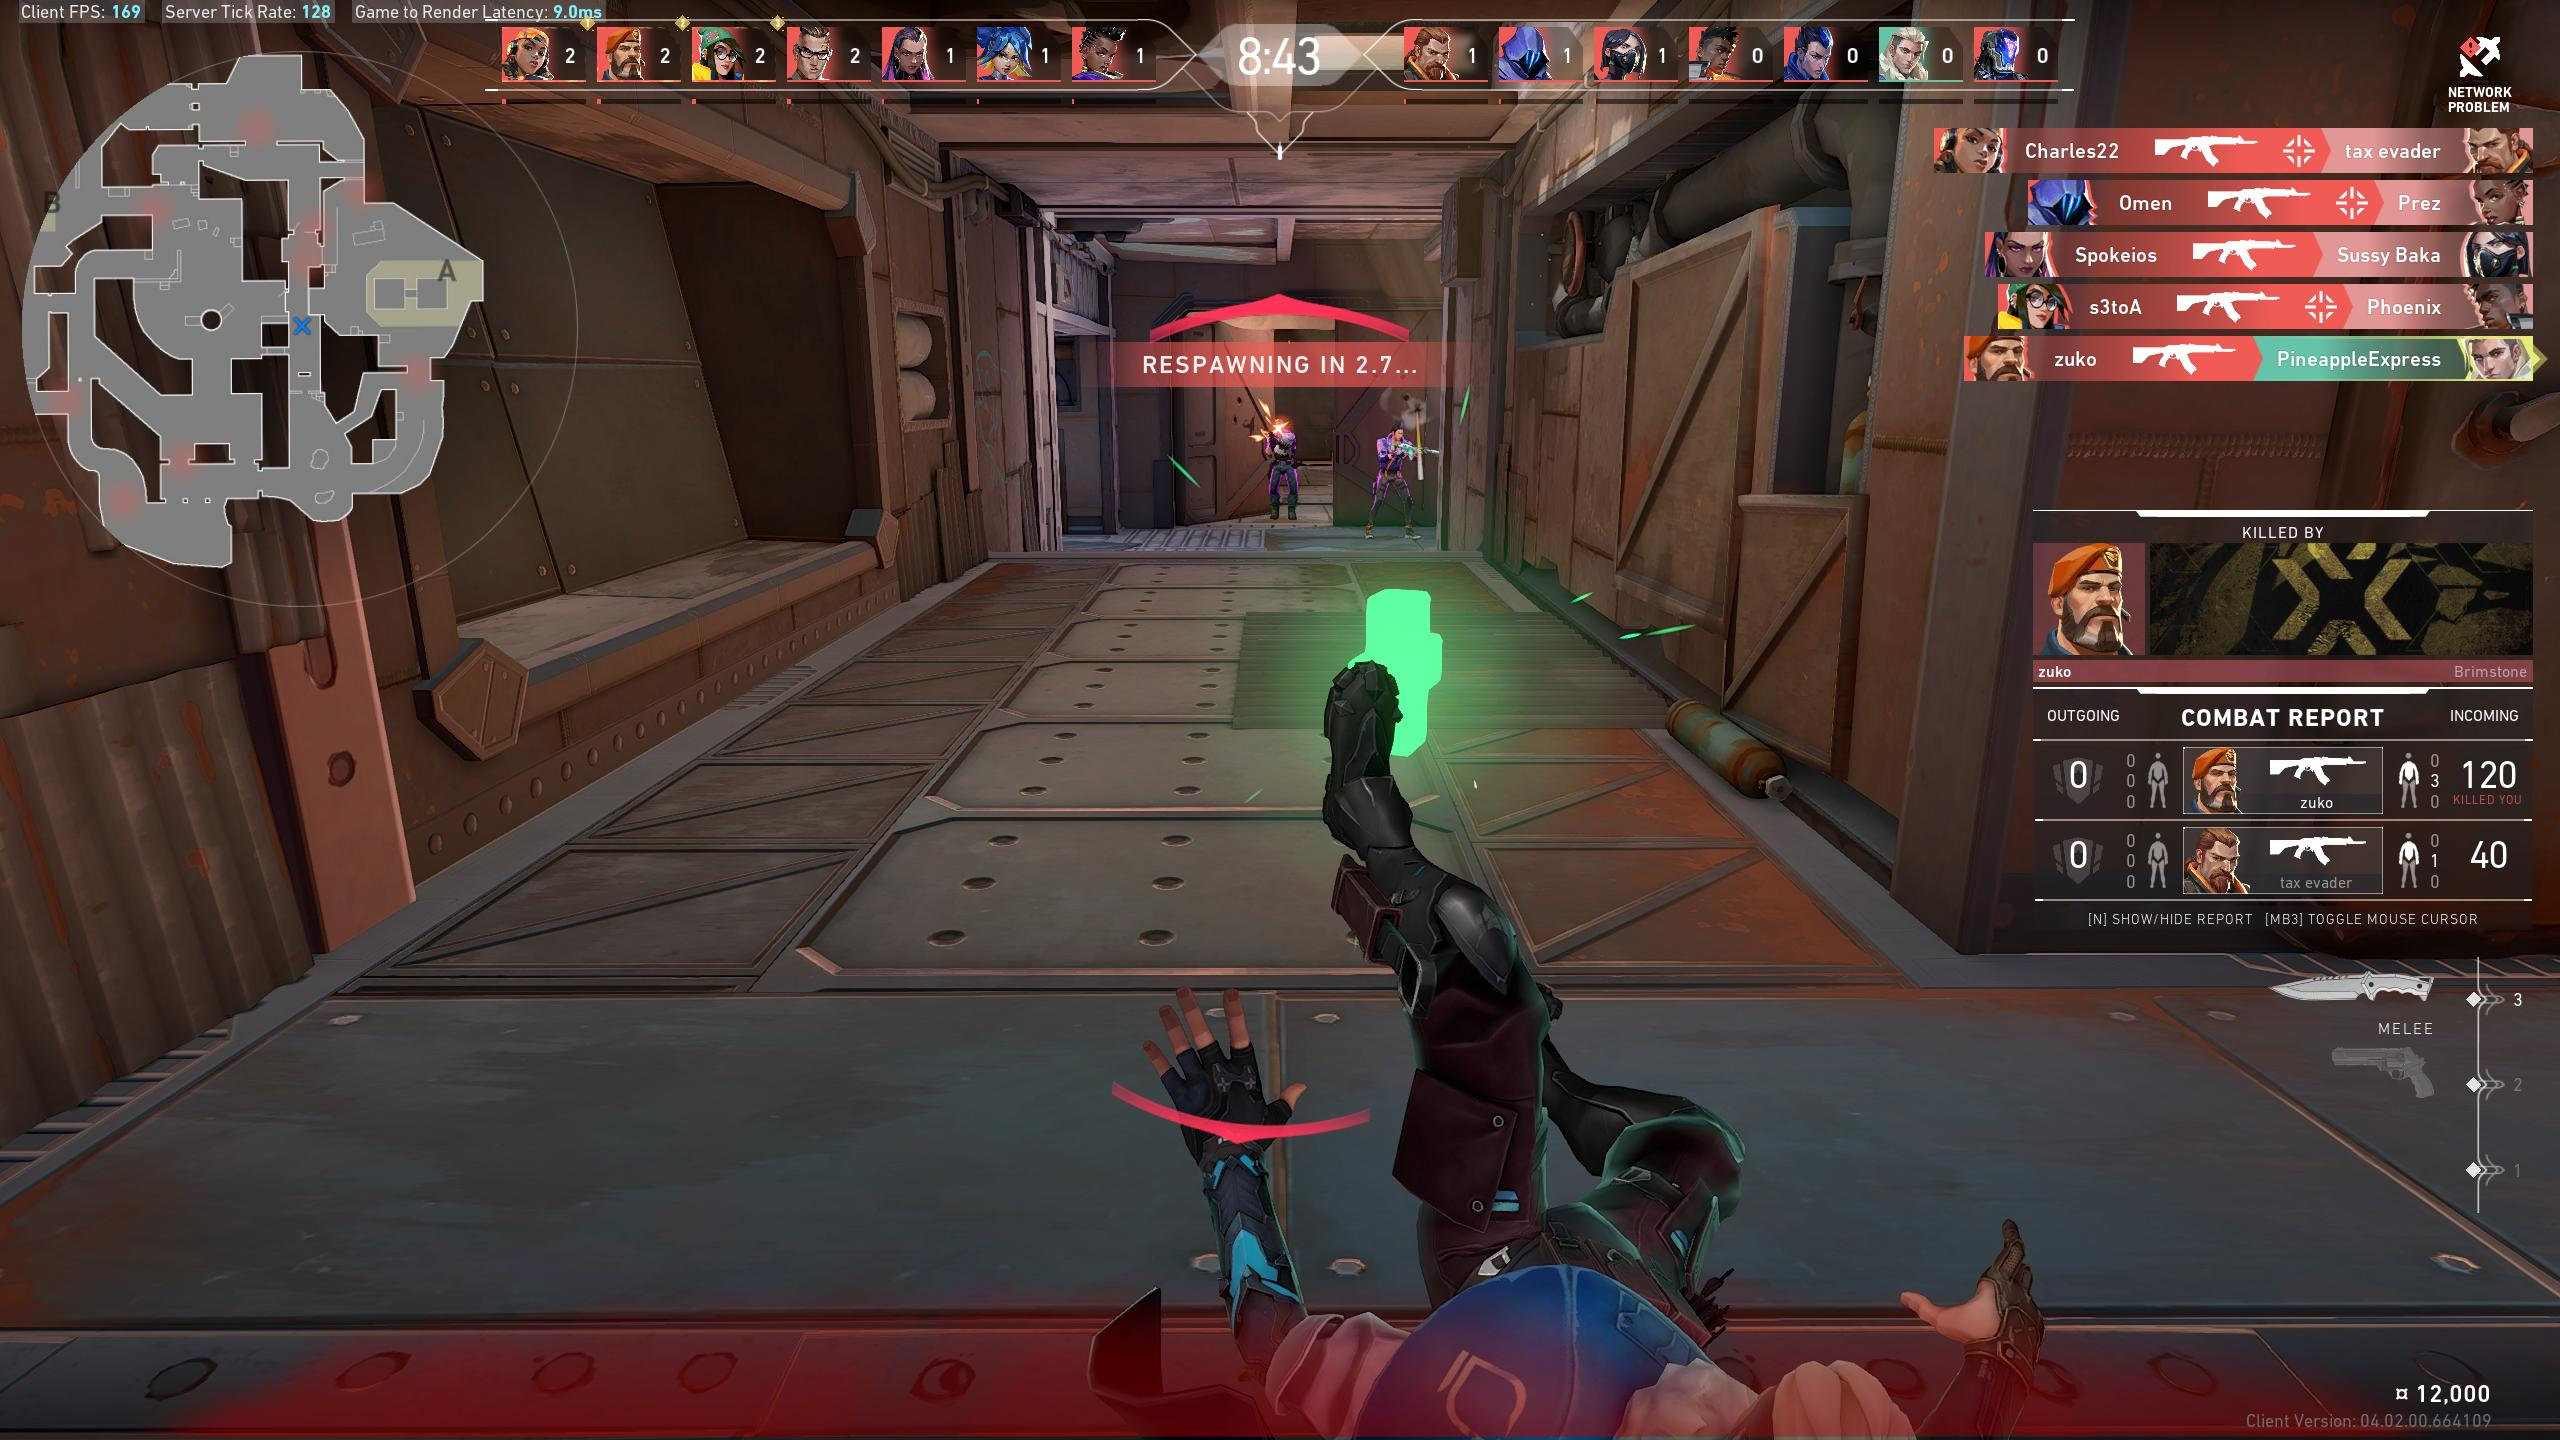enemyBody: (1384, 441, 1396, 473), (1273, 434, 1289, 457)
enemyHead: (1394, 427, 1401, 440), (1275, 422, 1282, 431)
